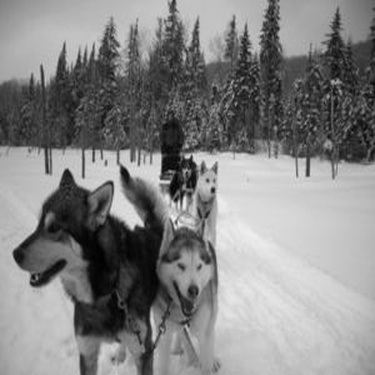dog: (4, 153, 172, 374), (132, 199, 234, 374), (189, 156, 227, 254), (164, 144, 207, 227)
